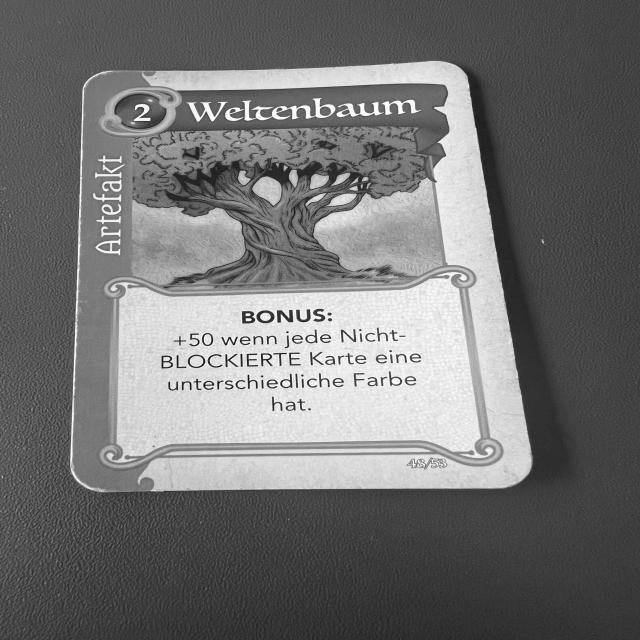World Tree: (61, 56, 545, 500)
